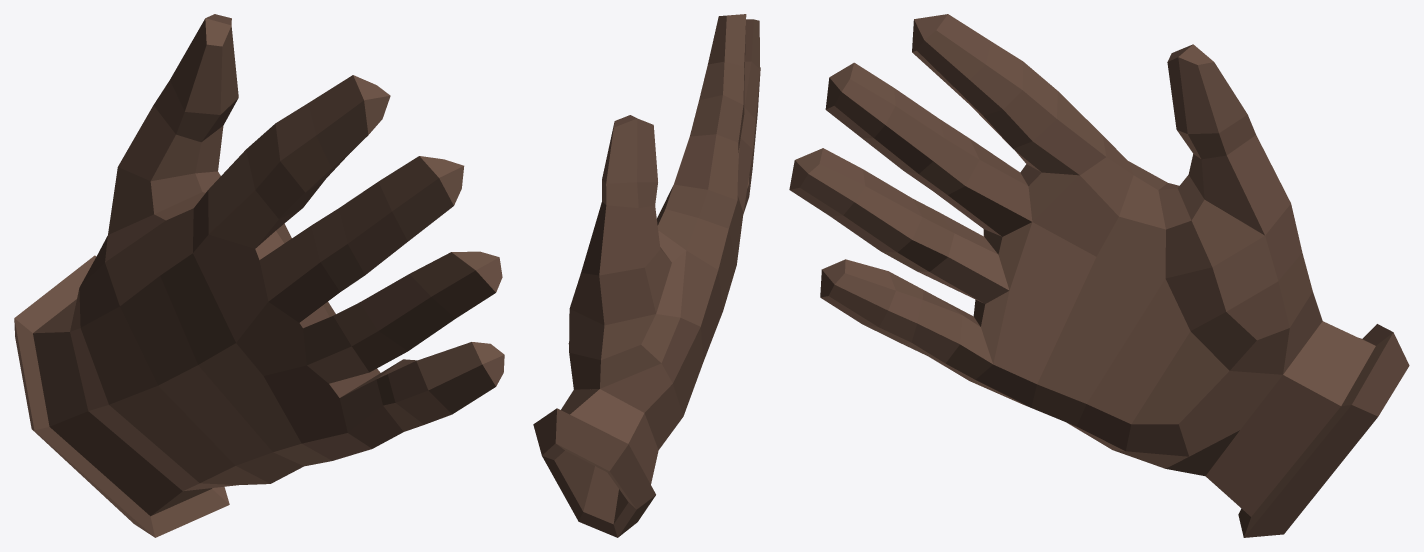
The model's file is Glove.fbx.
3 views of the same model, side by side, from view 1: azimuth 30°, elevation 25°; view 2: azimuth 150°, elevation 25°; view 3: azimuth 270°, elevation 25° (orthographic). The views are drawn at different scales.
Parts seen in each view (by area): view 1: Glove; view 2: Glove; view 3: Glove.
Boxes of the visible parts, box(x1,y1,x2,y2) form: Glove: box(14, 14, 504, 537); Glove: box(533, 14, 760, 537); Glove: box(789, 14, 1409, 537).
Size of the model in its own units: 29.32 by 80.78 by 87.1.
